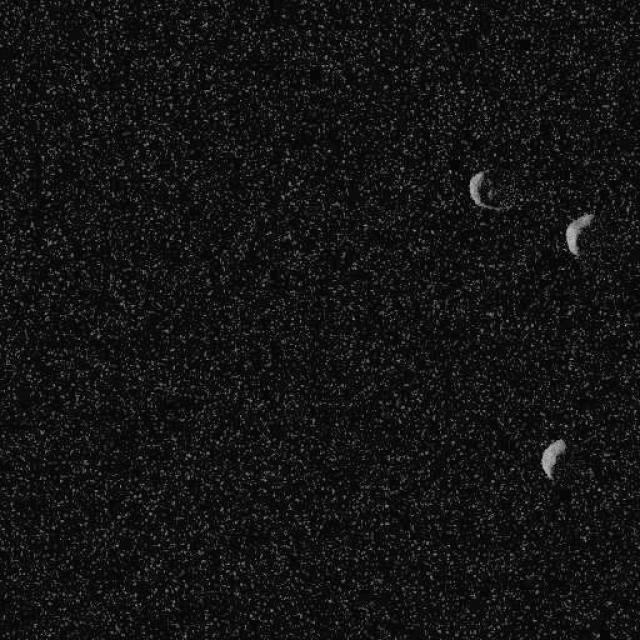D2: (467, 169, 505, 211), (564, 210, 594, 256), (539, 438, 566, 480)
